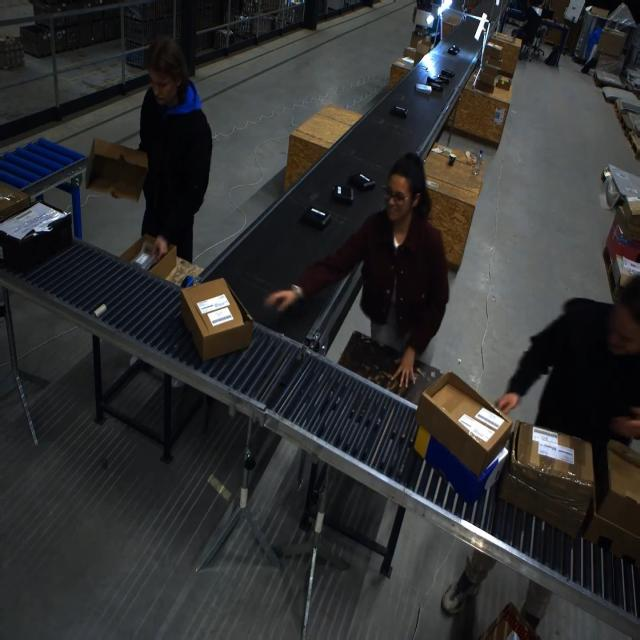box: (498, 422, 595, 541), (414, 371, 507, 484), (583, 438, 640, 563), (180, 276, 252, 359), (1, 201, 74, 273), (82, 136, 149, 201), (117, 235, 176, 282), (0, 183, 32, 224)
product: (300, 206, 331, 230), (348, 173, 374, 192), (331, 185, 353, 205), (389, 105, 407, 119), (426, 82, 443, 92), (434, 75, 450, 85), (415, 83, 431, 93), (439, 68, 455, 78), (447, 44, 460, 55)
